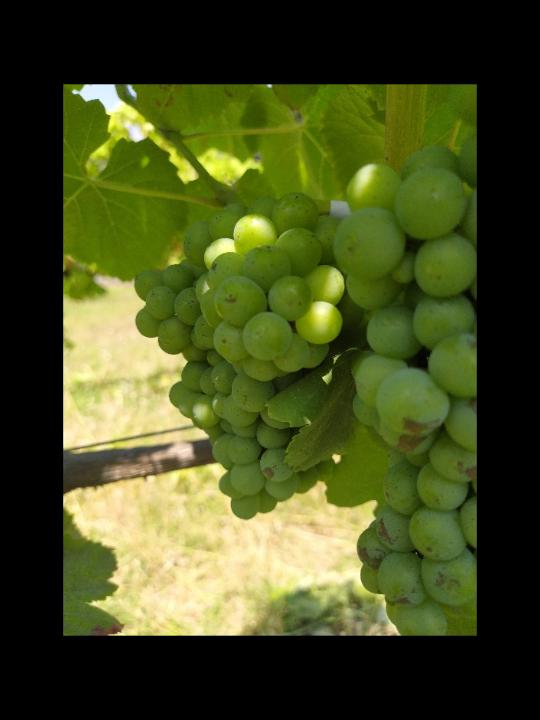grape: (131, 192, 334, 524)
